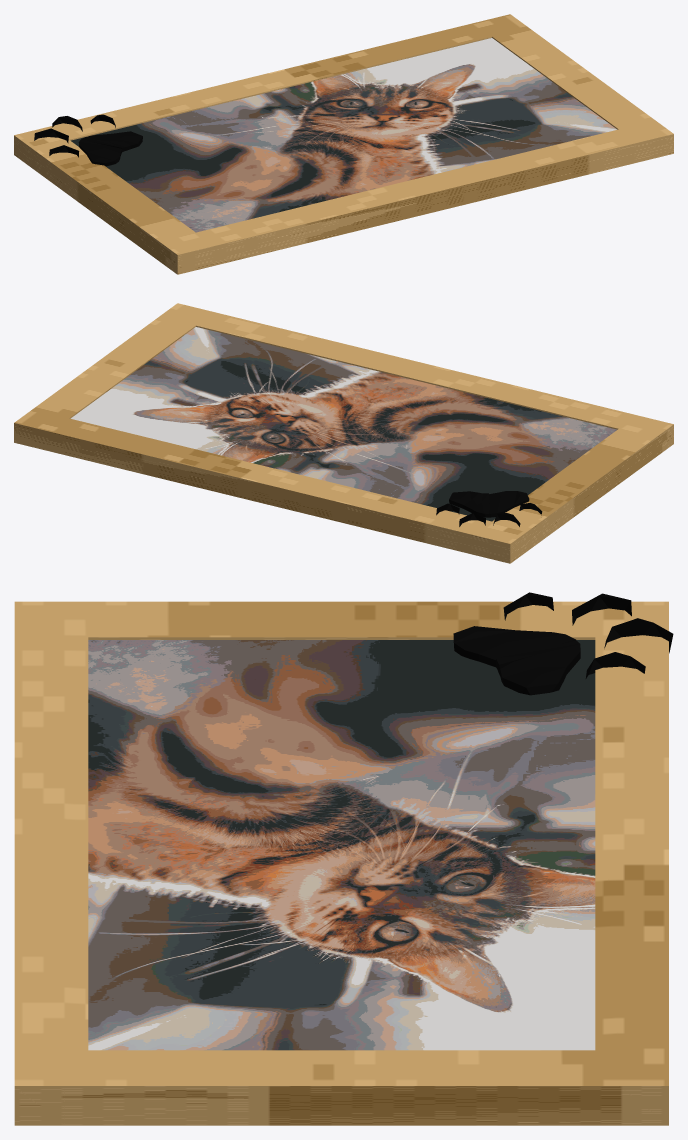
File: Fiburina_Gatto.fbx
3 renders of one model, top to bottom at view 1: azimuth 30°, elevation 25°; view 2: azimuth 150°, elevation 25°; view 3: azimuth 270°, elevation 25°, orthographic. The views are drawn at different scales.
Parts seen in each view (by area): view 1: Cube.042, Cube.005, Cube.020; view 2: Cube.042, Cube.005, Cube.020; view 3: Cube.042, Cube.005, Cube.020.
Part boxes in pixels (box(x1,y1,x2,y2)): Cube.042: box(71, 38, 616, 232); Cube.005: box(14, 14, 673, 274); Cube.020: box(34, 114, 142, 166); Cube.042: box(71, 327, 616, 521); Cube.005: box(14, 303, 673, 563); Cube.020: box(436, 491, 542, 526); Cube.042: box(88, 640, 595, 1050); Cube.005: box(14, 601, 668, 1125); Cube.020: box(453, 592, 673, 695).
Size of the model in its own units: 0.126 by 0.00821 by 0.0725.
Materials: 3 (2 with a texture image).
